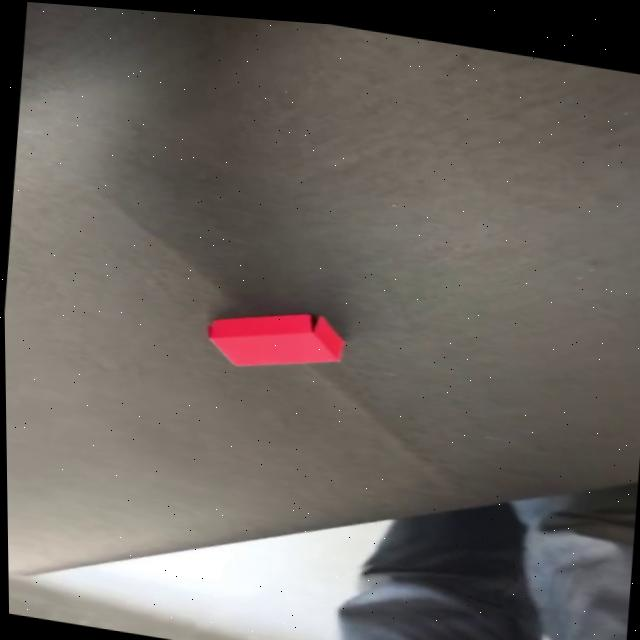red block: (203, 297, 349, 385)
